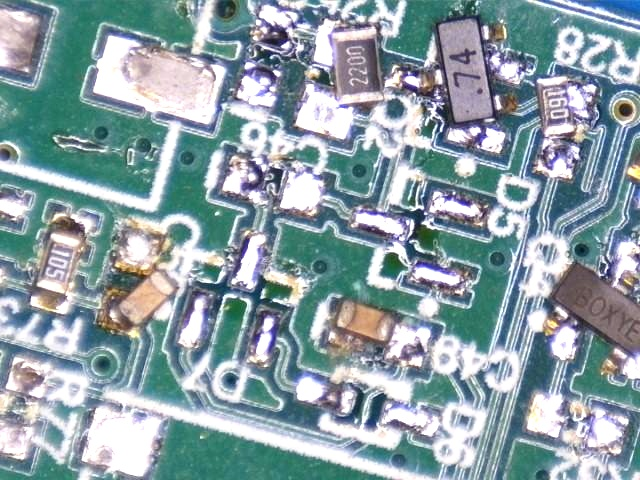pcb_defect: (387, 15, 525, 156), (542, 241, 640, 380), (293, 17, 385, 140), (96, 222, 177, 338), (326, 298, 432, 370), (533, 75, 600, 182)
